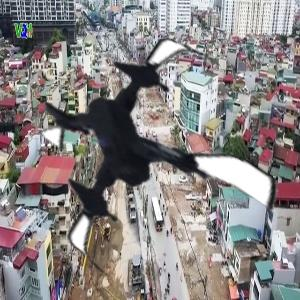drone: (26, 33, 284, 291)
